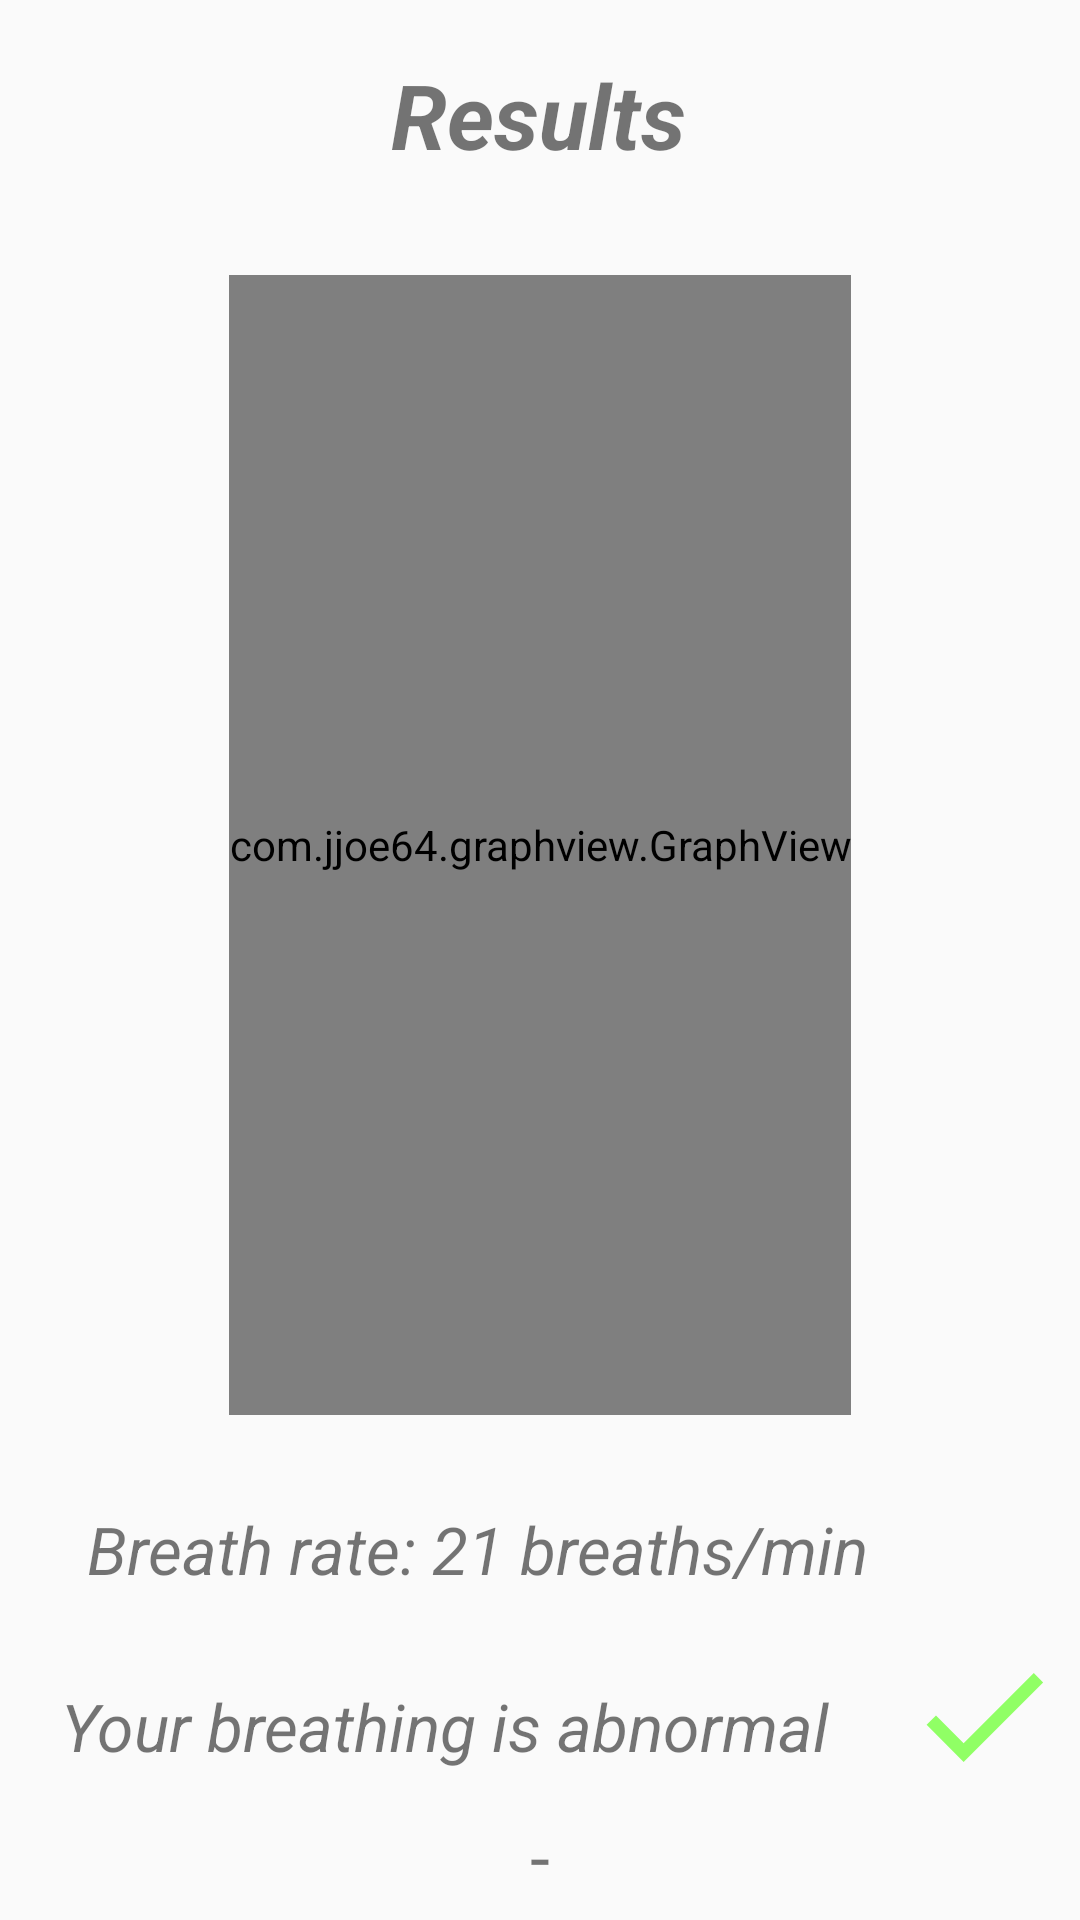

Icons on this 1080 × 1920 Android screen, each with the point to tap as (x,y):
check: (985,1717)
